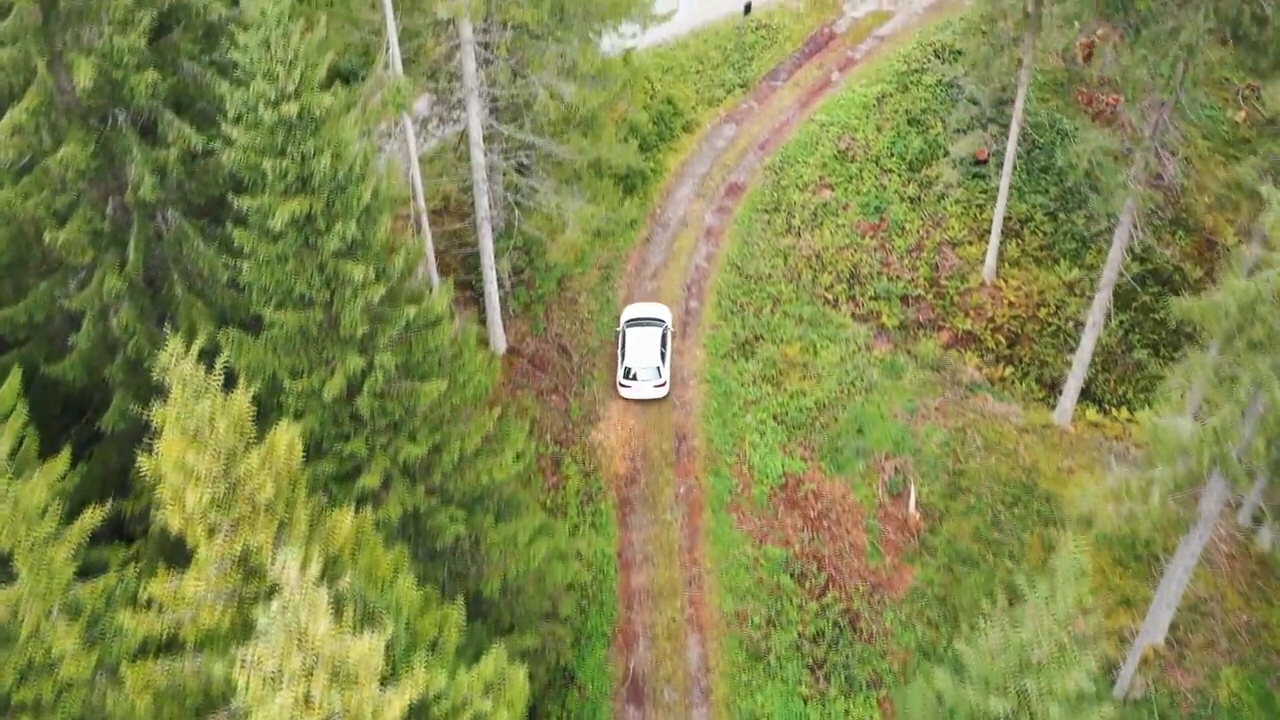araba: (615, 301, 678, 395)
